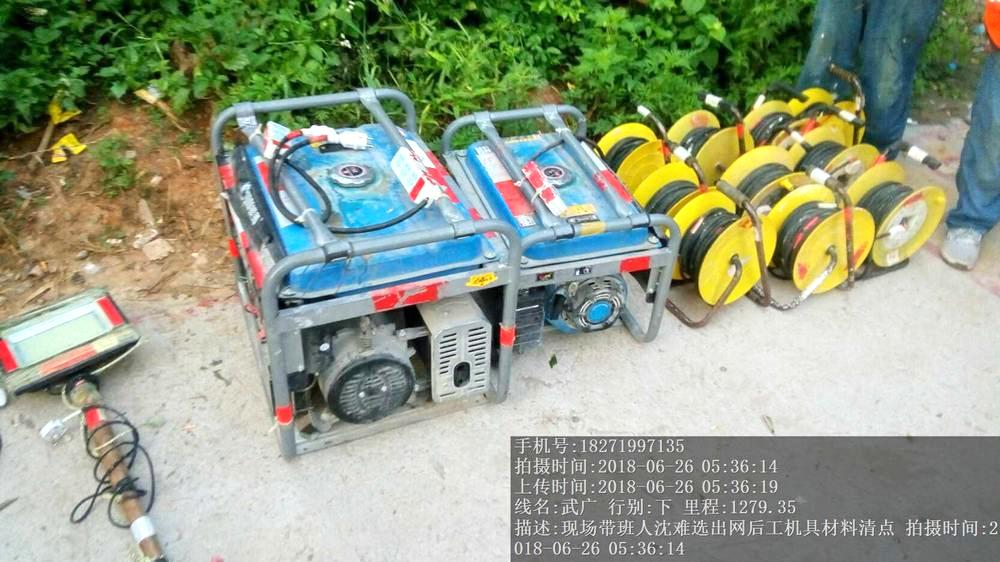DJ: (199, 105, 514, 439), (471, 108, 657, 350)
DX: (676, 187, 775, 329), (773, 178, 860, 311), (862, 167, 942, 275)
